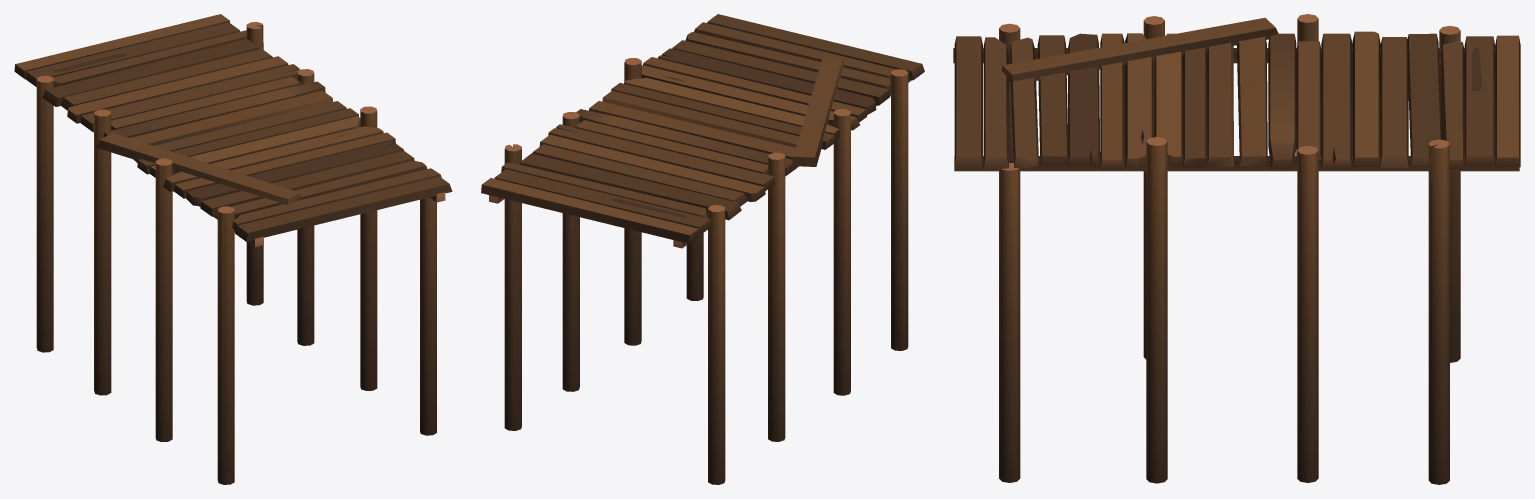
Rendered from Wooden_Ramp_1B.fbx.
The picture shows the model from 3 angles, left to right: view 1: azimuth 30°, elevation 25°; view 2: azimuth 150°, elevation 25°; view 3: azimuth 270°, elevation 25°; orthographic projection. The views are drawn at different scales.
Parts seen in each view (by area): view 1: Wooden_Ramp_1B; view 2: Wooden_Ramp_1B; view 3: Wooden_Ramp_1B.
Boxes of the visible parts, x1,y1,x2,y2 form: Wooden_Ramp_1B: (14,14,452,484); Wooden_Ramp_1B: (481,14,924,484); Wooden_Ramp_1B: (953,14,1520,484).
Bounding box in the file's own units: 469 × 527 × 799.
